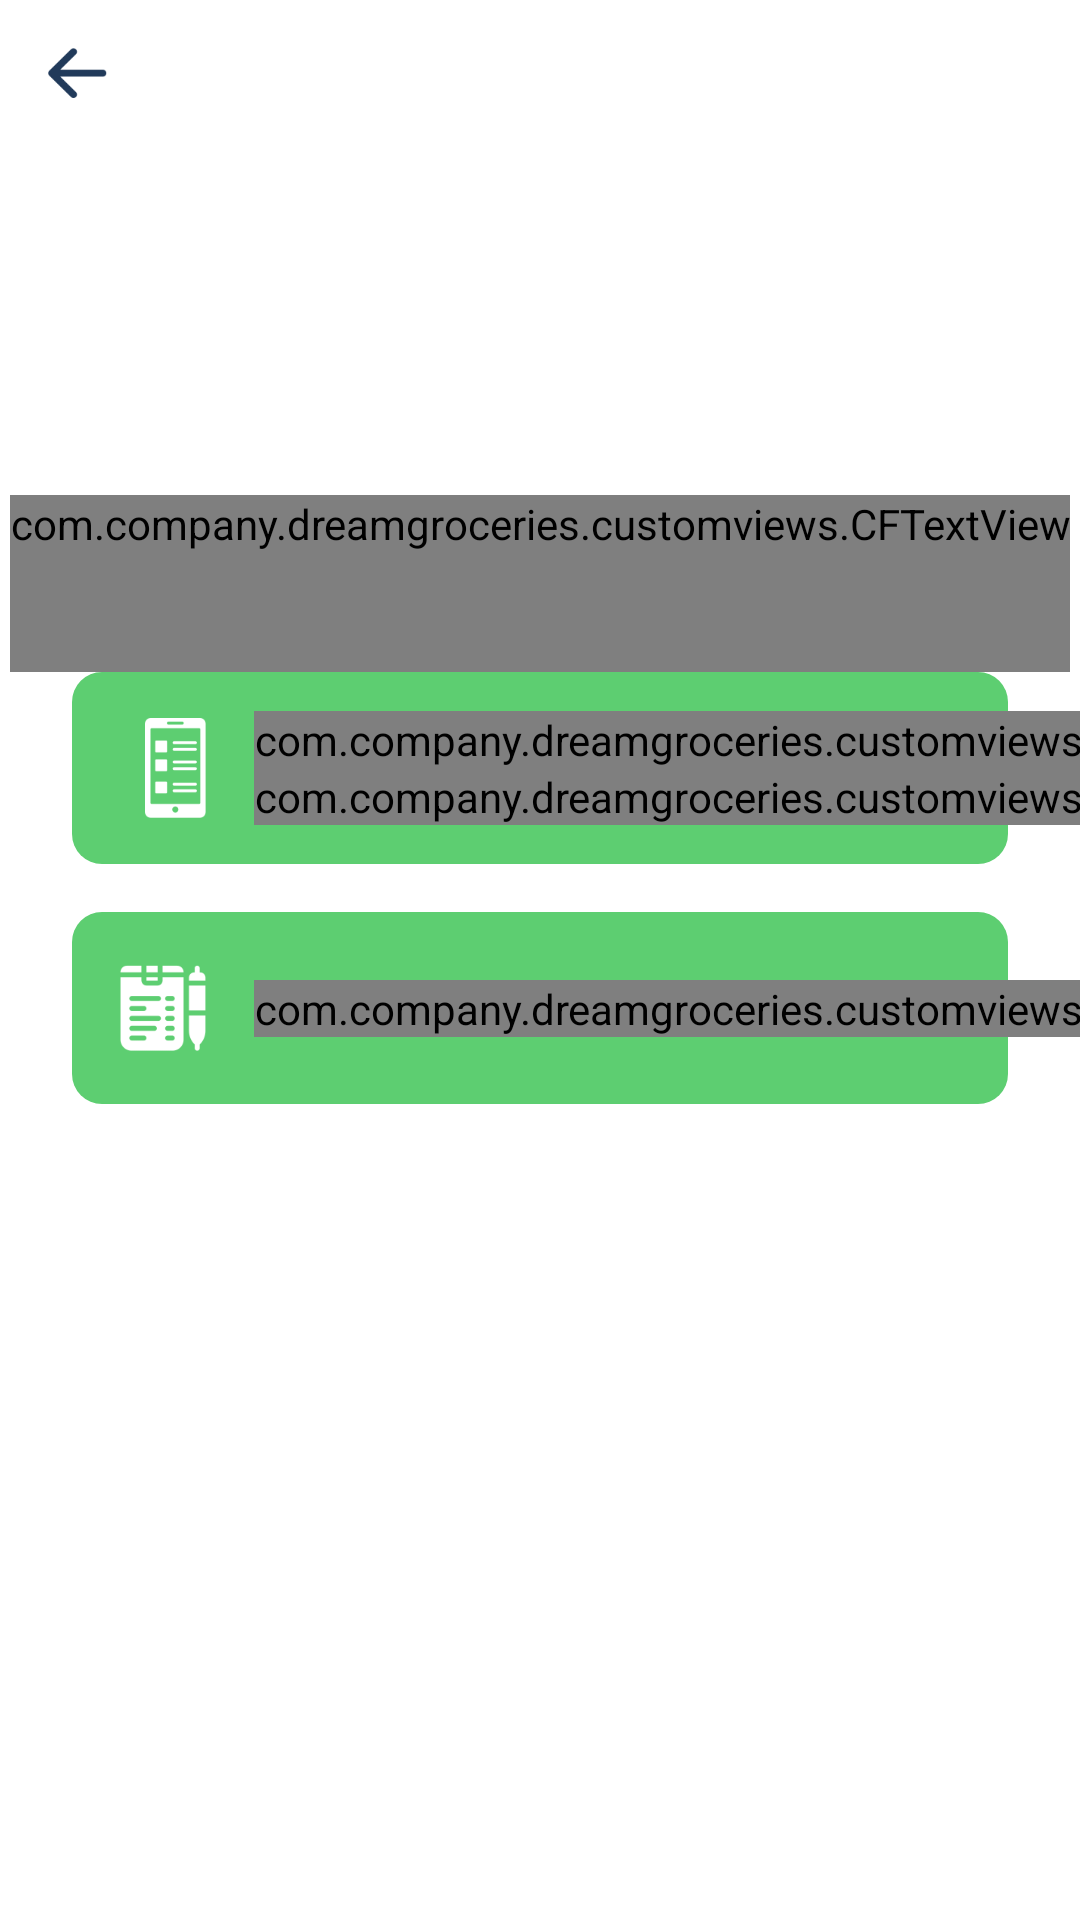

Where to tap for icons on this 1080 x 1920 app screen, as [x,y]:
back: [77,73]
browse store: [175,768]
manual order: [163,1008]
